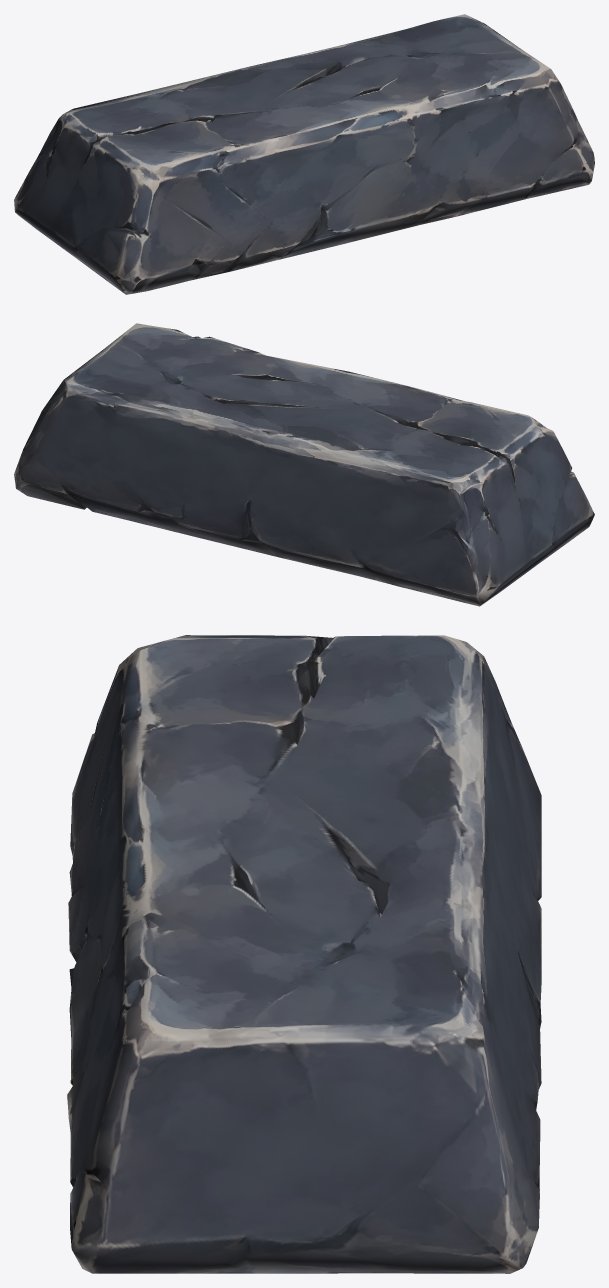
The model's file is iron_ingot.fbx.
The picture shows the model from 3 angles, top to bottom: view 1: azimuth 30°, elevation 25°; view 2: azimuth 150°, elevation 25°; view 3: azimuth 270°, elevation 25°; orthographic projection. The views are drawn at different scales.
Parts seen in each view (by area): view 1: tripo_node_0bc4f075; view 2: tripo_node_0bc4f075; view 3: tripo_node_0bc4f075.
Boxes of the visible parts, bbox=[...] form: tripo_node_0bc4f075: bbox=[14, 14, 594, 294]; tripo_node_0bc4f075: bbox=[14, 323, 594, 606]; tripo_node_0bc4f075: bbox=[67, 635, 541, 1273].
Size of the model in its own units: 100 by 42.75 by 21.73.
1 material, 1 textured.
